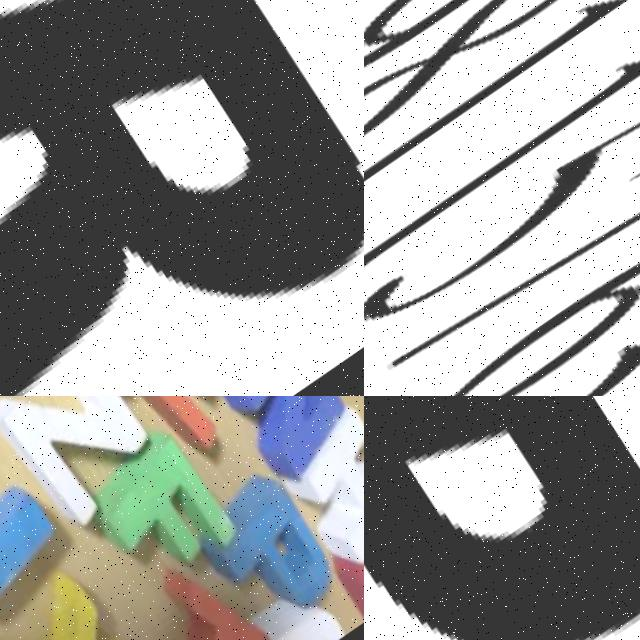1: (364, 24, 640, 301), (364, 0, 640, 240)
3: (456, 208, 640, 396), (486, 253, 640, 396)
5: (364, 51, 640, 348)
6: (420, 160, 640, 396)
7: (380, 109, 640, 395)
8: (364, 0, 623, 201)
9: (364, 0, 592, 155)
E: (57, 396, 299, 471)
F: (83, 431, 261, 601)
H: (268, 402, 364, 565)
I: (113, 550, 310, 640)
J: (0, 416, 89, 627)
N: (193, 396, 364, 483)
O: (329, 503, 364, 620)
P: (364, 396, 640, 640), (196, 469, 361, 632)
R: (0, 0, 364, 396)
X: (0, 572, 189, 640)
Z: (0, 396, 193, 541)
